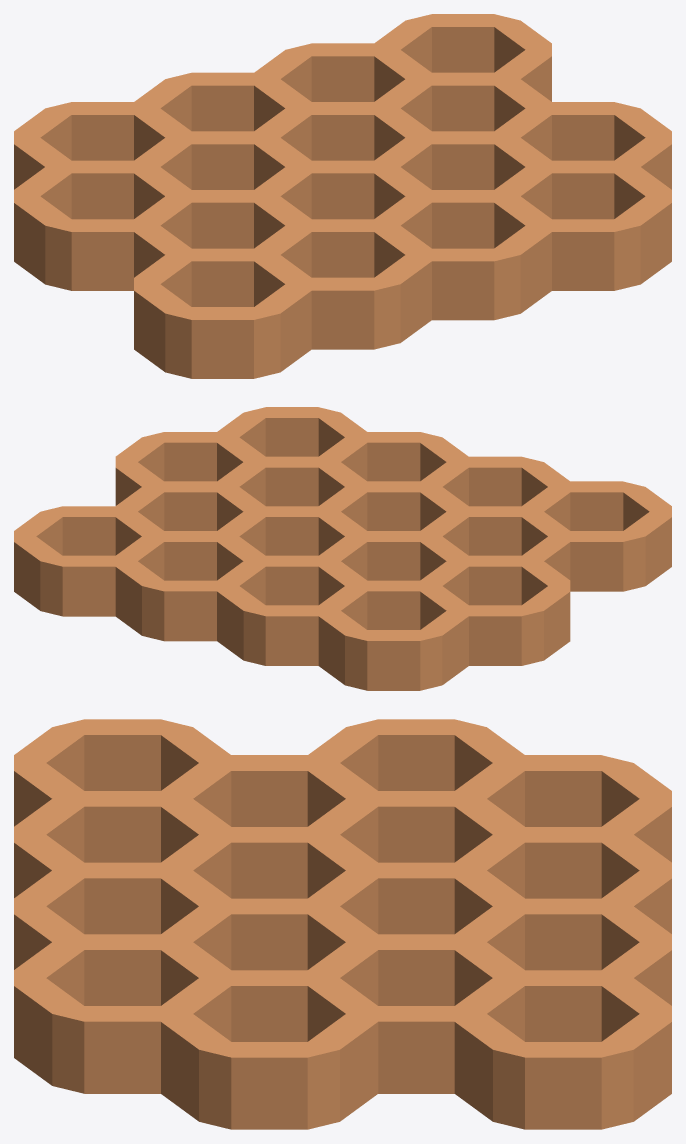
Rendered from honeycomb.gltf.
3 views of the same model, one above another, from view 1: azimuth 30°, elevation 25°; view 2: azimuth 150°, elevation 25°; view 3: azimuth 270°, elevation 25° (orthographic). The views are drawn at different scales.
Visible parts, largest first — view 1: HoneyComb; view 2: HoneyComb; view 3: HoneyComb.
Part boxes in pixels (left/top/right/bottom): HoneyComb: left=14, top=14, right=671, bottom=378; HoneyComb: left=14, top=407, right=671, bottom=690; HoneyComb: left=14, top=719, right=671, bottom=1129.
Size of the model in its own units: 0.4991 by 0.0496 by 0.4103.
